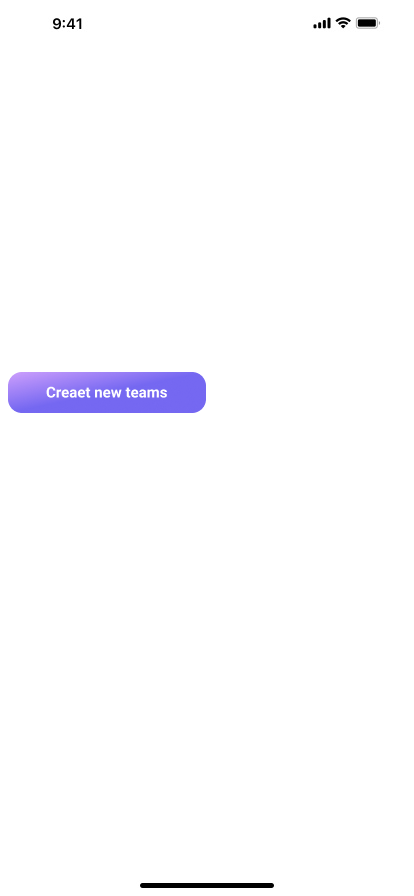Buttons: (8, 372, 206, 413)
Home Indicator: (0, 862, 414, 896)
Status Bar: (0, 0, 414, 44)
